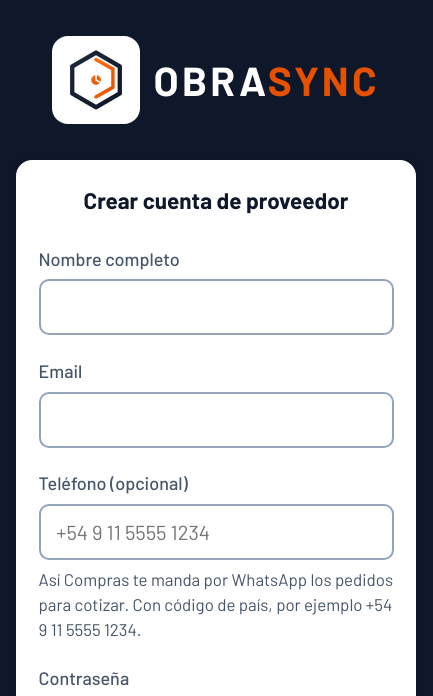
Test: RegistroProveedorPage › muestra el mensaje genérico del 400 cuando no hay detail
The width and height of the screenshot is (433, 696).
In the field labelled "Nombre completo": (216, 307) top-left (38, 279), bottom-right (394, 335), type "Ana"
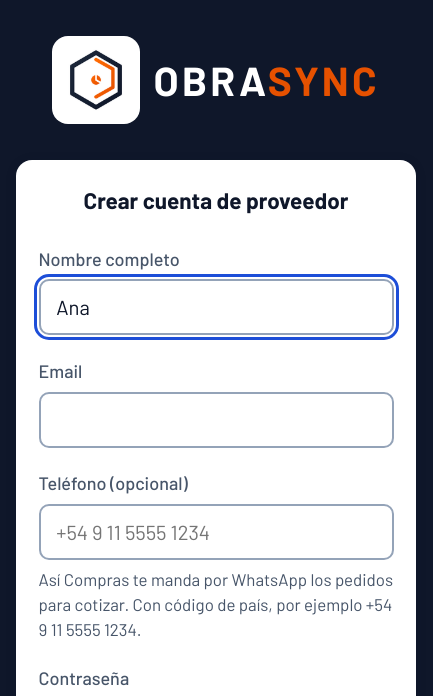
In the field labelled "Email": (216, 420) top-left (38, 392), bottom-right (394, 448), type "ana@empresa.com"
(page scrolled)
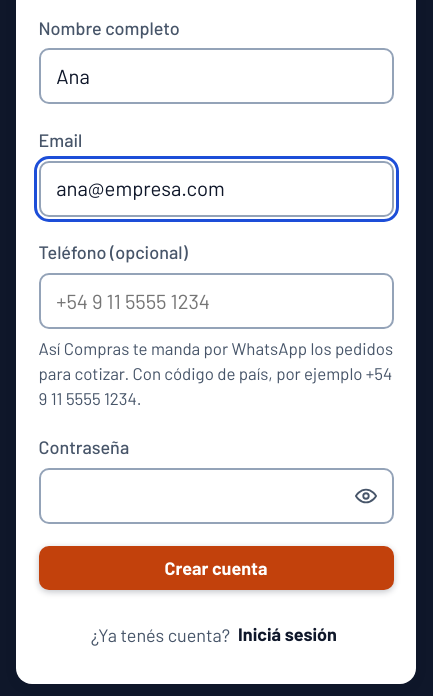
In the password field labelled "Contraseña": (216, 496) top-left (38, 468), bottom-right (394, 524), type "clave1234"
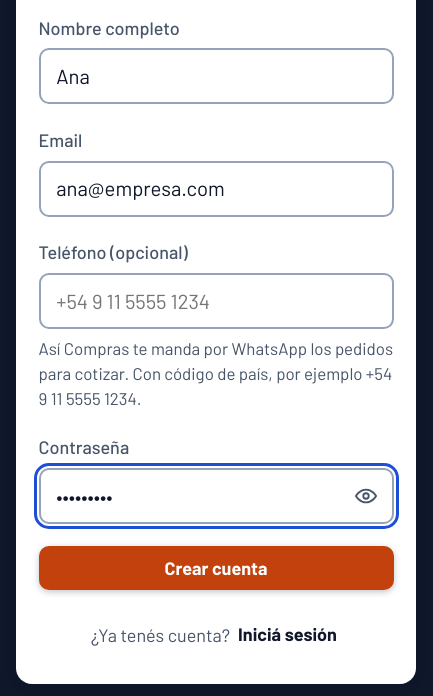
Click the button "Crear cuenta": click(216, 568) top-left (38, 546), bottom-right (394, 590)
(page scrolled)
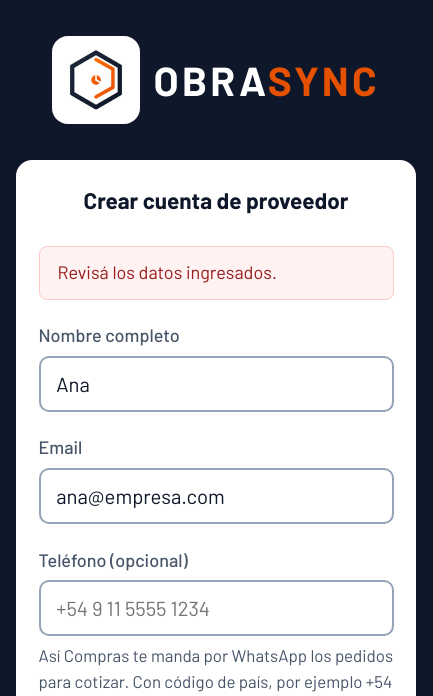
Result: the message reads "Revisá los datos ingresados." at top-left (58, 261), bottom-right (277, 283)
